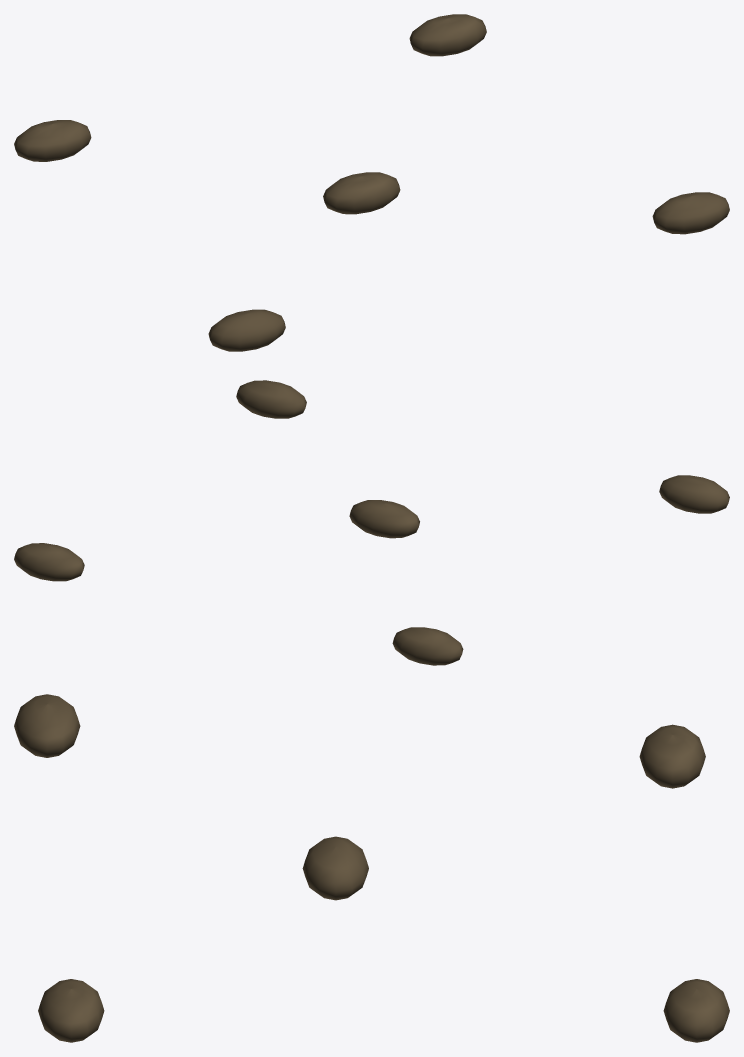
Rendered from watermelon_seed.glb.
The picture shows the model from 3 angles, top to bottom: view 1: azimuth 30°, elevation 25°; view 2: azimuth 150°, elevation 25°; view 3: azimuth 270°, elevation 25°; orthographic projection. The views are drawn at different scales.
Parts seen in each view (by area): view 1: seeds; view 2: seeds; view 3: seeds.
Part boxes in pixels (bbox=[...]): seeds: bbox=[14, 14, 729, 351]; seeds: bbox=[14, 380, 729, 665]; seeds: bbox=[14, 694, 729, 1042].
Bounding box in the file's own units: 0.326 × 0.02 × 0.2976.
